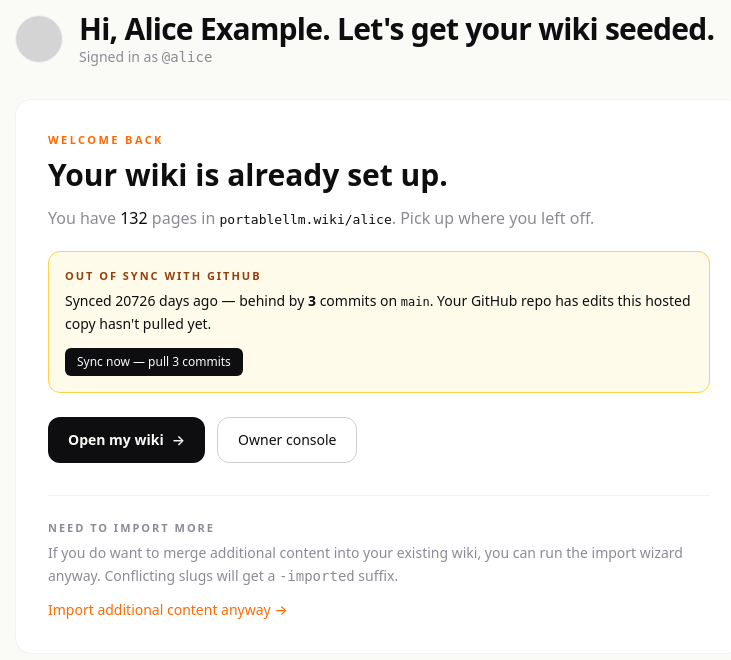
WelcomePage AlreadyOnboarded sync freshness › clicking Sync now runs the smart pull and reports success
The width and height of the screenshot is (731, 660).
Click the button with test id "sync-now": (154, 362) x1=65 y1=348 x2=243 y2=376
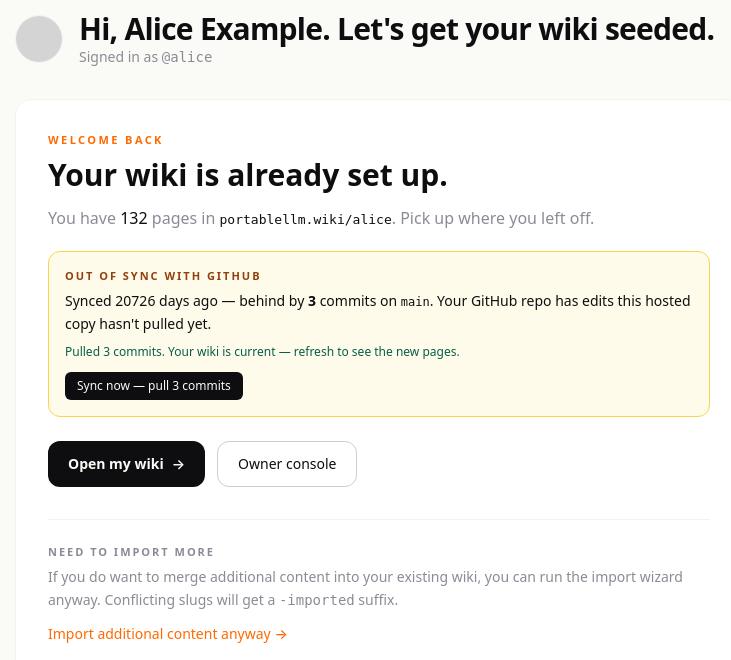
Now the text "Pulled 3 commits" is shown, box x1=65 y1=342 x2=460 y2=360
